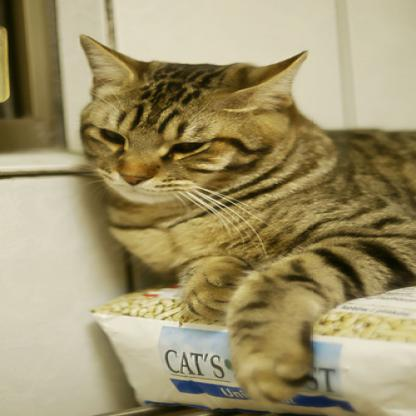cat: (78, 33, 414, 405)
